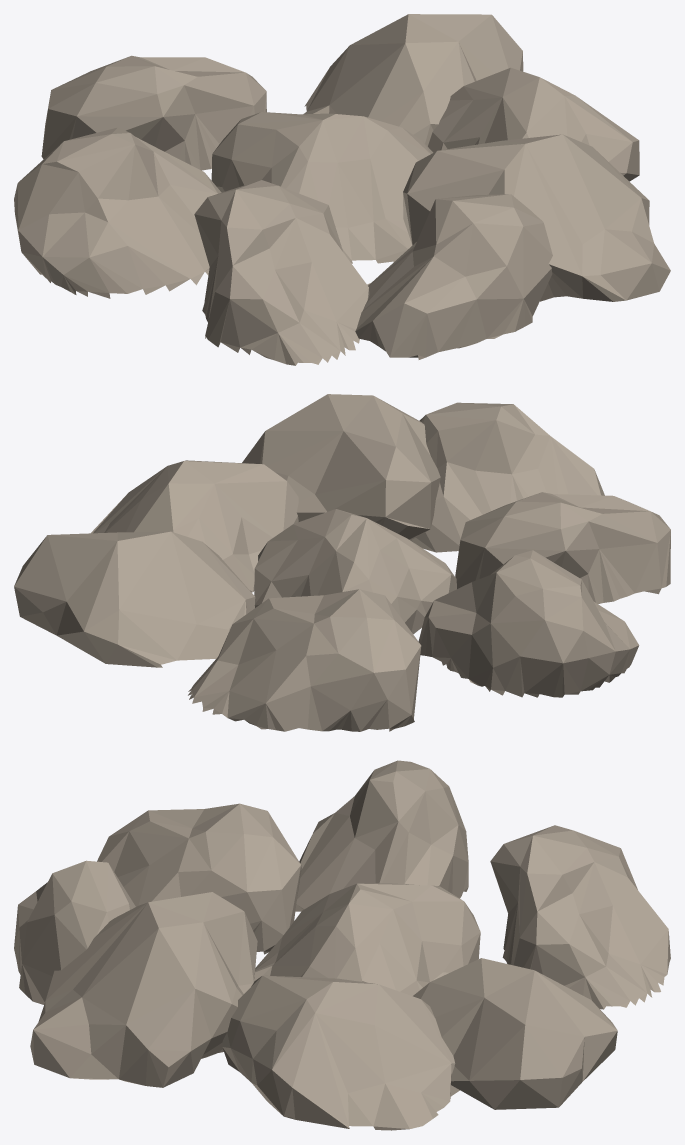
The picture shows the model from 3 angles, top to bottom: view 1: azimuth 30°, elevation 25°; view 2: azimuth 150°, elevation 25°; view 3: azimuth 270°, elevation 25°; orthographic projection. The views are drawn at different scales.
Visible parts, largest first — view 1: Cube.004, Cube.007, Cube.006, Cube.005, Cube.002, Cube.003, Cube, Cube.001; view 2: Cube.003, Cube, Cube.004, Cube.006, Cube.007, Cube.005, Cube.002, Cube.001; view 3: Cube.006, Cube.001, Cube.003, Cube, Cube.007, Cube.002, Cube.004, Cube.005.
Part boxes in pixels (x1,y1,x2,y2): Cube.004: (14, 127, 221, 298); Cube.007: (194, 180, 369, 365); Cube.006: (403, 134, 670, 301); Cube.005: (355, 194, 552, 359); Cube.002: (211, 112, 433, 263); Cube.003: (41, 55, 266, 170); Cube: (303, 14, 523, 146); Cube.001: (428, 67, 639, 181); Cube.003: (188, 589, 421, 731); Cube: (14, 531, 255, 667); Cube.004: (418, 550, 639, 697); Cube.006: (242, 394, 440, 540); Cube.007: (455, 492, 670, 604); Cube.005: (410, 402, 604, 552); Cube.002: (254, 509, 456, 634); Cube.001: (91, 460, 298, 592); Cube.006: (30, 892, 257, 1087); Cube.001: (222, 975, 459, 1130); Cube.003: (490, 825, 670, 1009); Cube: (413, 958, 617, 1109); Cube.007: (97, 803, 301, 954); Cube.002: (254, 883, 480, 995); Cube.004: (295, 760, 468, 911); Cube.005: (14, 860, 135, 1004).
Size of the model in its own units: 1.59 by 0.3325 by 1.53.
